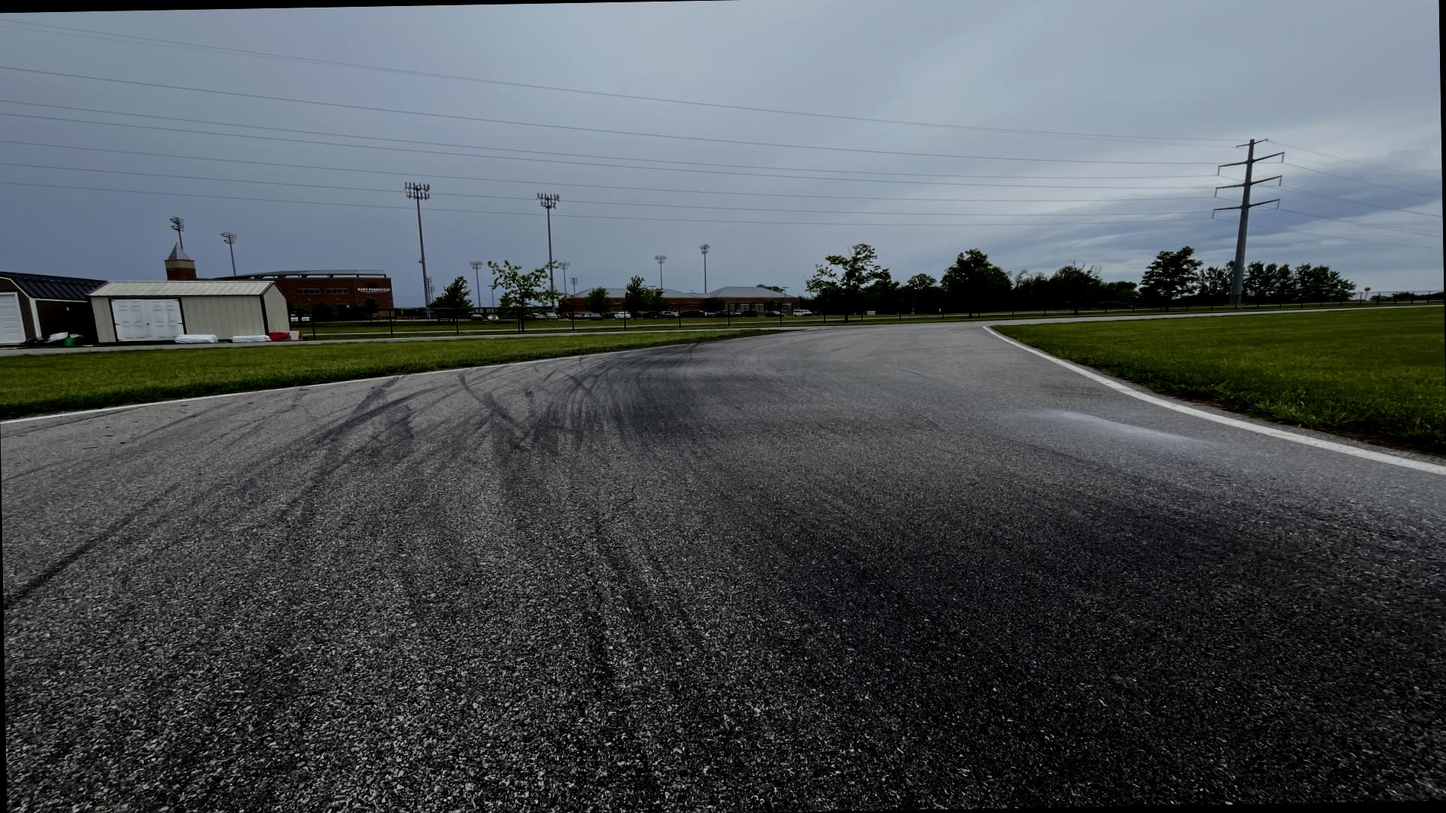white-line: (982, 326, 1445, 476), (0, 344, 691, 425), (692, 330, 810, 345)
